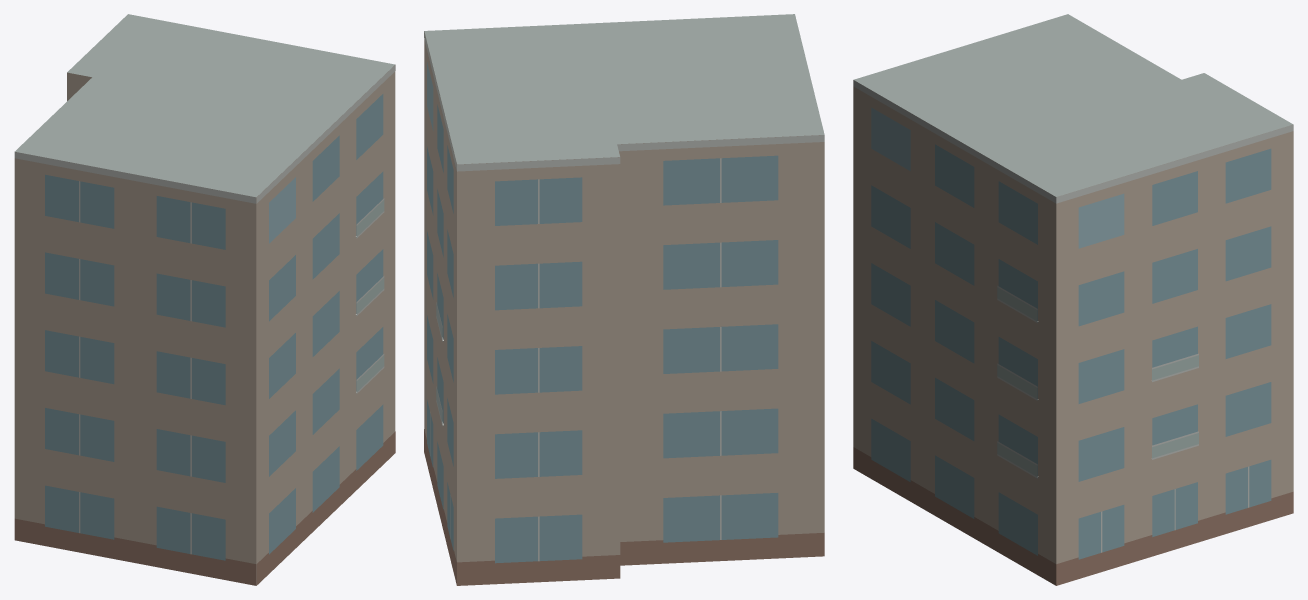
Rendered from survey-upis-32914966.glb.
3 renders of one model, left to right at view 1: azimuth 30°, elevation 25°; view 2: azimuth 150°, elevation 25°; view 3: azimuth 270°, elevation 25°, orthographic. The views are drawn at different scales.
Parts seen in each view (by area): view 1: survey-upis-32914966.tmp; view 2: survey-upis-32914966.tmp; view 3: survey-upis-32914966.tmp.
Boxes of the visible parts, x1,y1,x2,y2 form: survey-upis-32914966.tmp: (14, 14, 395, 585); survey-upis-32914966.tmp: (424, 14, 824, 585); survey-upis-32914966.tmp: (853, 14, 1293, 585).
Size of the model in its own units: 14.65 by 14.5 by 14.89.
